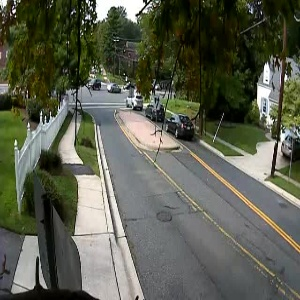car: (162, 113, 202, 138), (273, 133, 300, 159)
